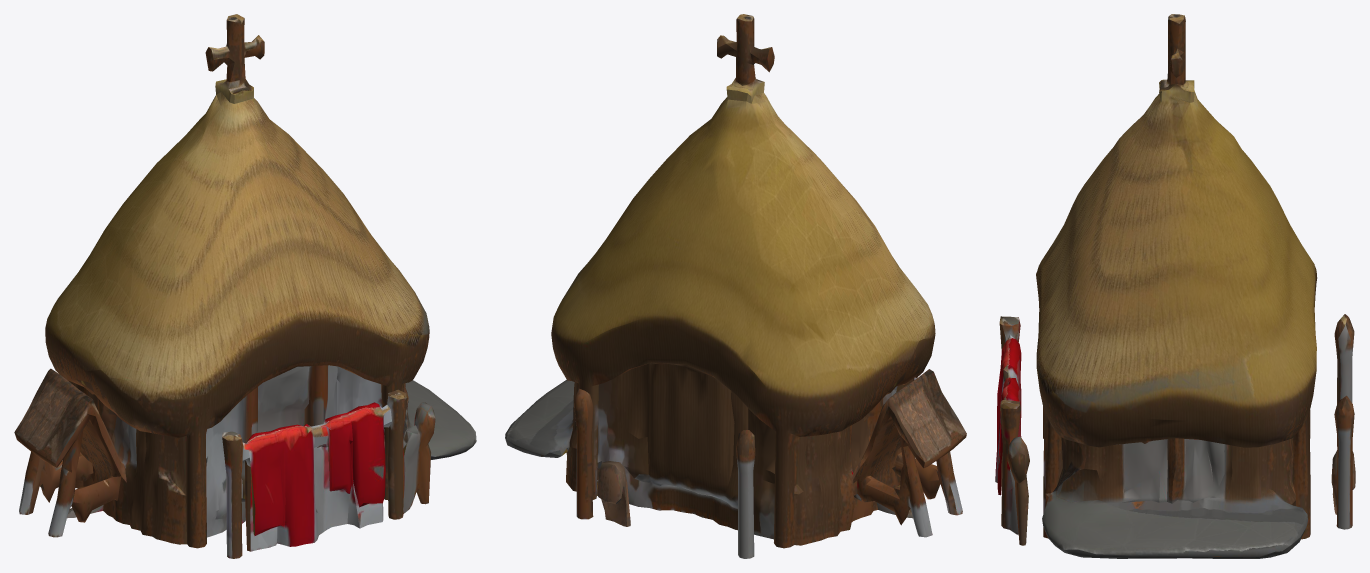
File: mapuches_rewe_caballeria.glb
The picture shows the model from 3 angles, left to right: view 1: azimuth 30°, elevation 25°; view 2: azimuth 150°, elevation 25°; view 3: azimuth 270°, elevation 25°; orthographic projection. The views are drawn at different scales.
Visible parts, largest first — view 1: geometry_0; view 2: geometry_0; view 3: geometry_0.
Part boxes in pixels (x1,y1,x2,y2): geometry_0: [14, 14, 476, 558]; geometry_0: [505, 14, 966, 558]; geometry_0: [995, 14, 1355, 558].
Size of the model in its own units: 3.4 by 3.7 by 2.58.
1 material, 1 textured.
